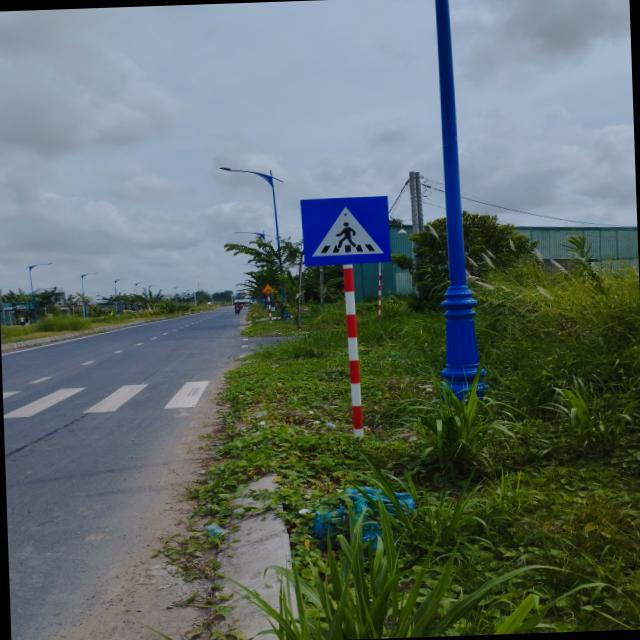Giao_Nhau_Duong_Uu_Tien: (300, 196, 392, 266)
